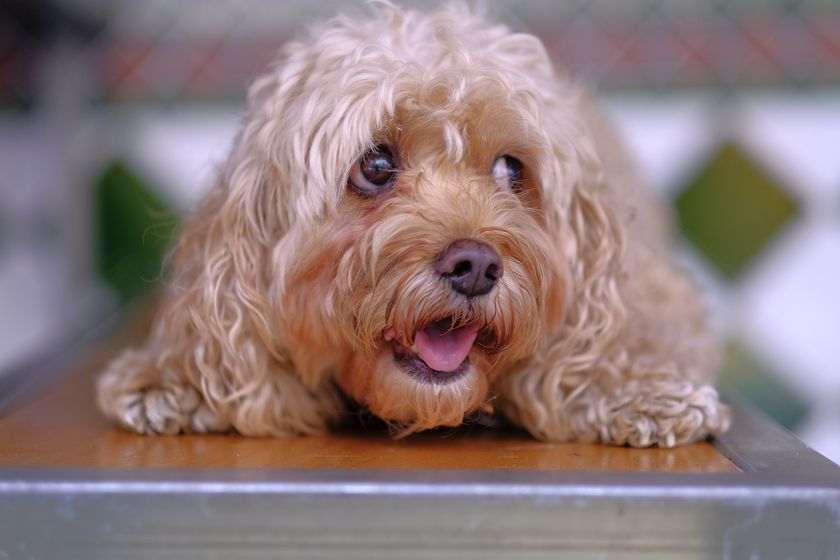dog: (98, 6, 735, 451)
